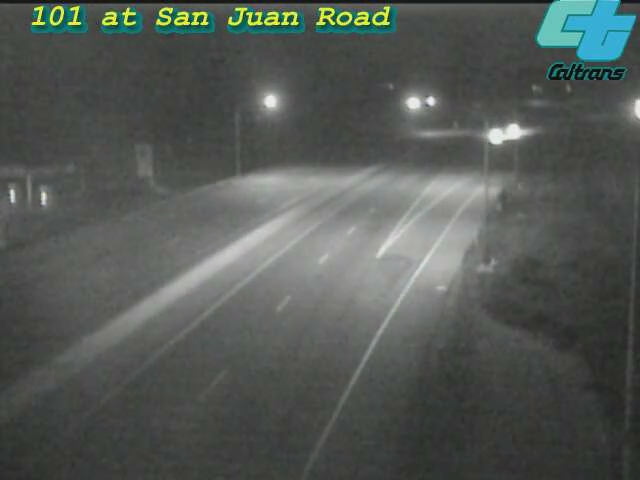vehicle: (486, 106, 536, 156), (469, 111, 519, 161), (613, 83, 640, 133)
